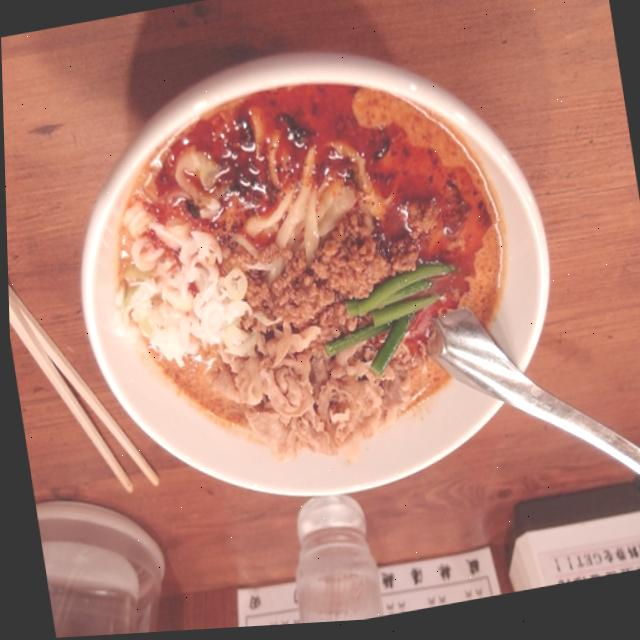面条主食: (55, 1, 590, 552)
